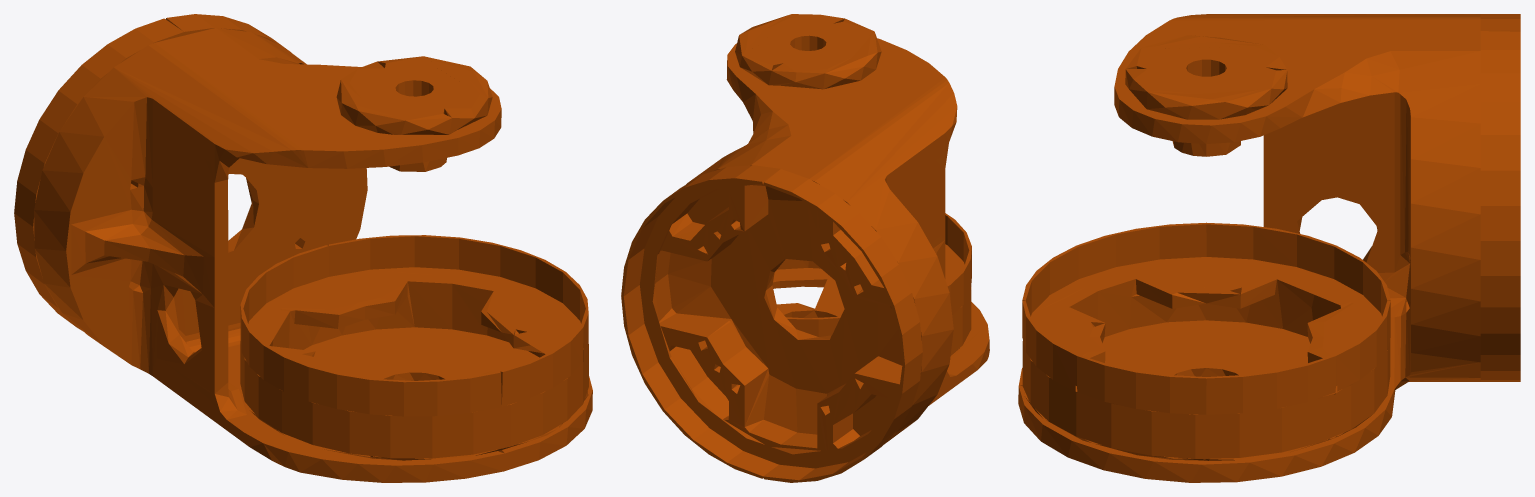
The model's file is va_left_lower_elbow.stl.obj.
3 views of the same model, side by side, from view 1: azimuth 30°, elevation 25°; view 2: azimuth 150°, elevation 25°; view 3: azimuth 270°, elevation 25° (orthographic). The views are drawn at different scales.
Visible parts, largest first — view 1: <STL_BINARY>; view 2: <STL_BINARY>; view 3: <STL_BINARY>.
Part boxes in pixels (x1=…): <STL_BINARY>: x1=14, y1=14, x2=592, y2=482; <STL_BINARY>: x1=621, y1=14, x2=989, y2=482; <STL_BINARY>: x1=1018, y1=14, x2=1520, y2=482.
Bounding box in the file's own units: 0.121 × 0.0941 × 0.1228.
